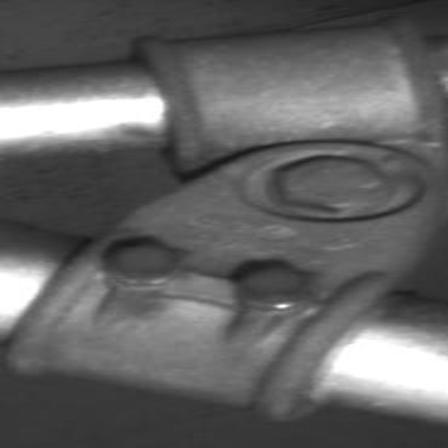nut2: (273, 153, 395, 217)
screw2: (104, 236, 181, 288), (236, 261, 307, 312)
